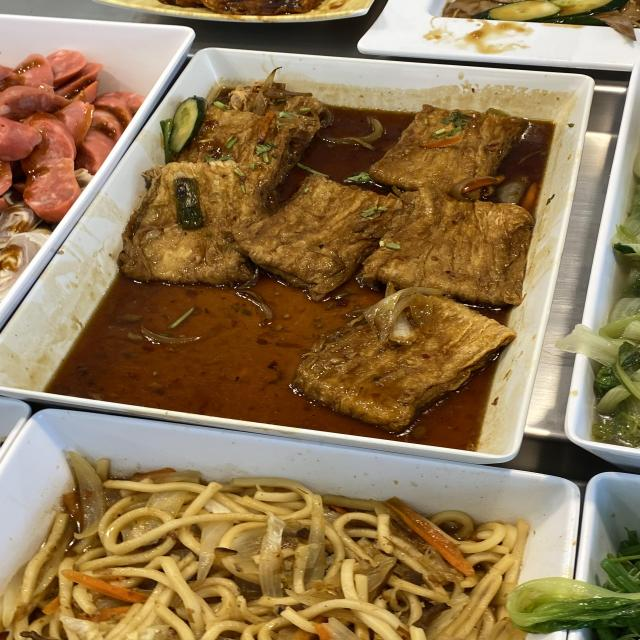bean bag: (187, 119, 490, 375)
